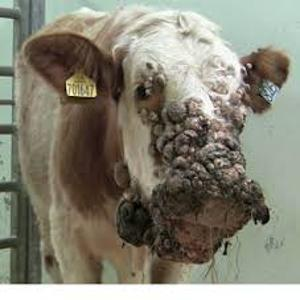lumpy skin diesease: (14, 4, 290, 283)
